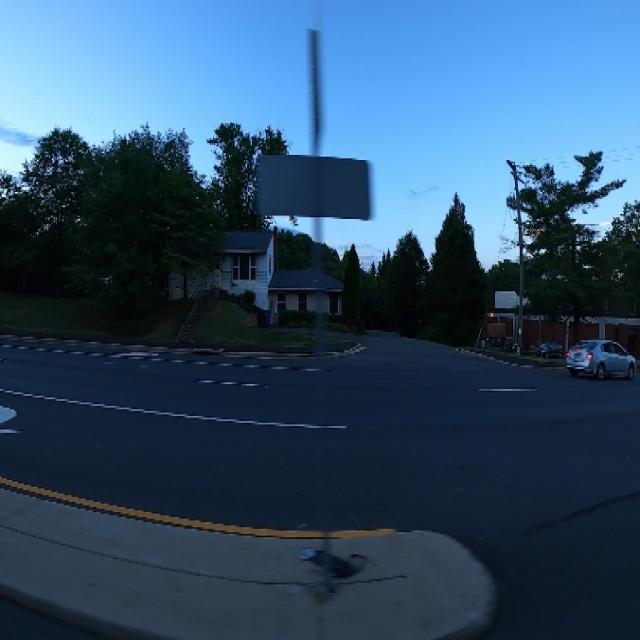cars: (566, 336, 638, 380), (535, 338, 568, 364)
